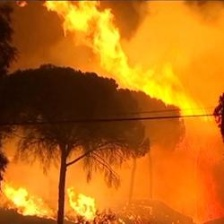fire: (2, 182, 105, 223), (70, 10, 127, 68)
